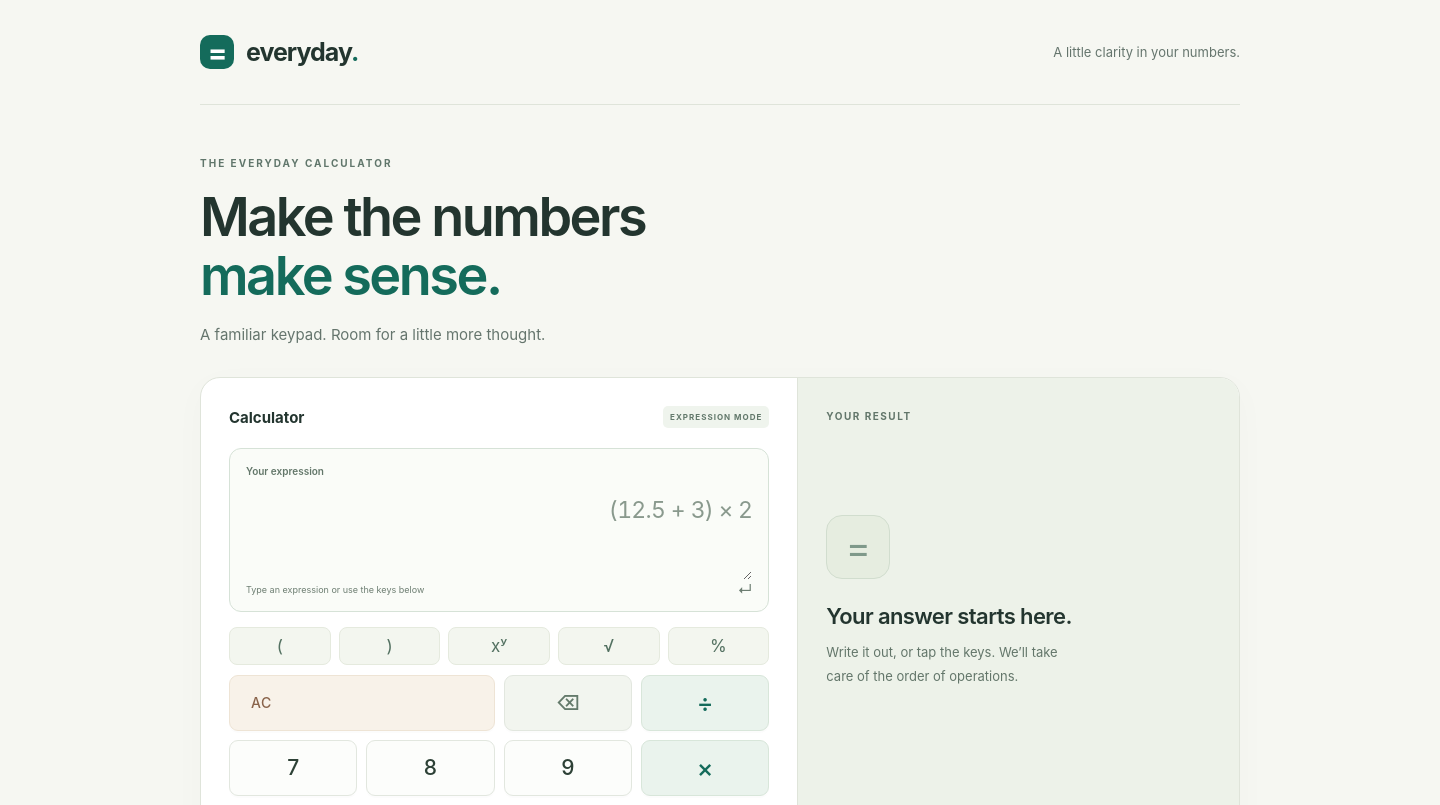
Test case: expression calculator › square root inserts parentheses with the cursor inside
The width and height of the screenshot is (1440, 805).
What coordinates should you click on to do the following:
click the button named "Square root"
I would click on:
 (609, 646)
Its box is [558, 627, 660, 665].
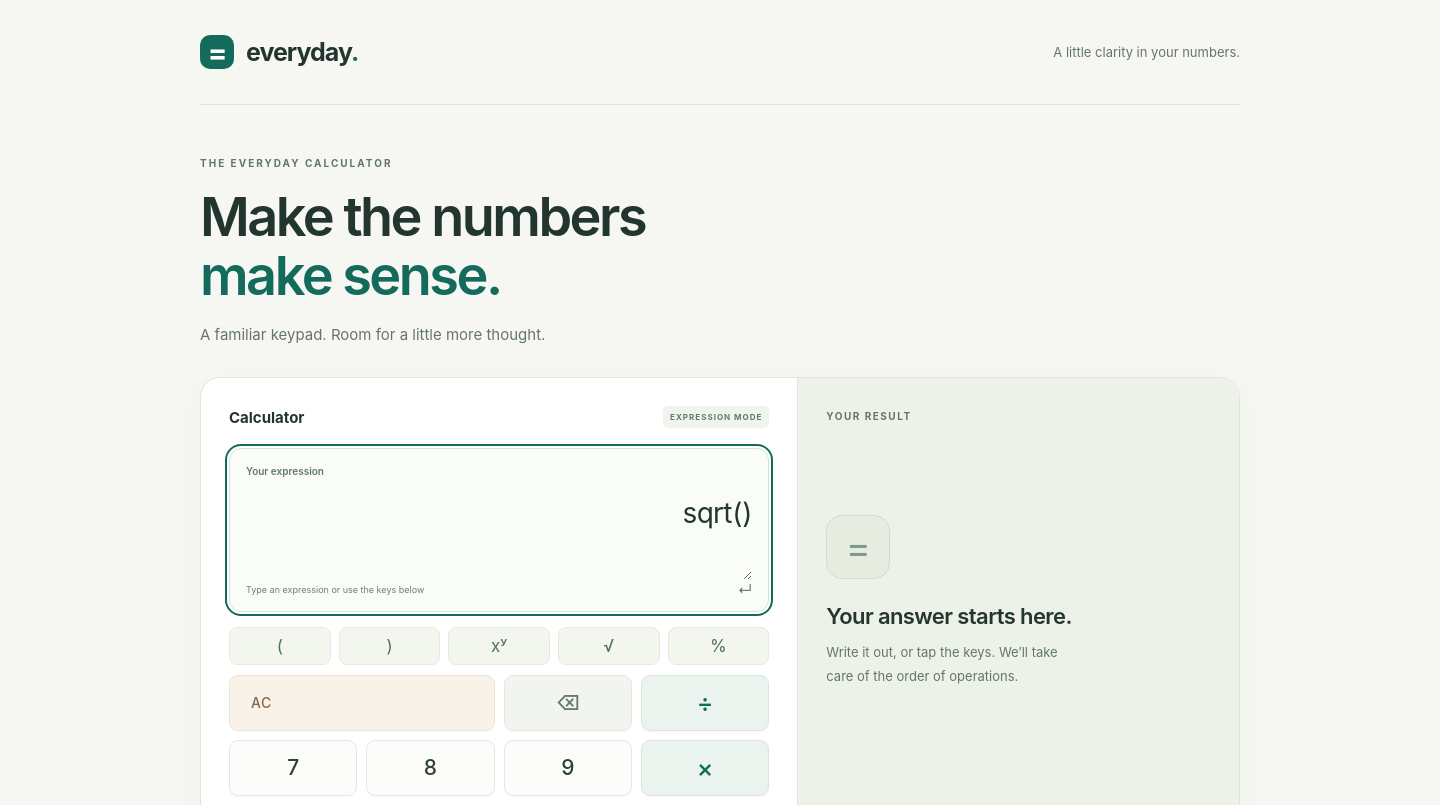
Now the text box labelled "Your expression" holds "sqrt()", box [246, 477, 752, 580]
What coordinates should you click on to do the following:
click the button "9"
I would click on:
 (568, 768)
Its box is [504, 740, 632, 796].
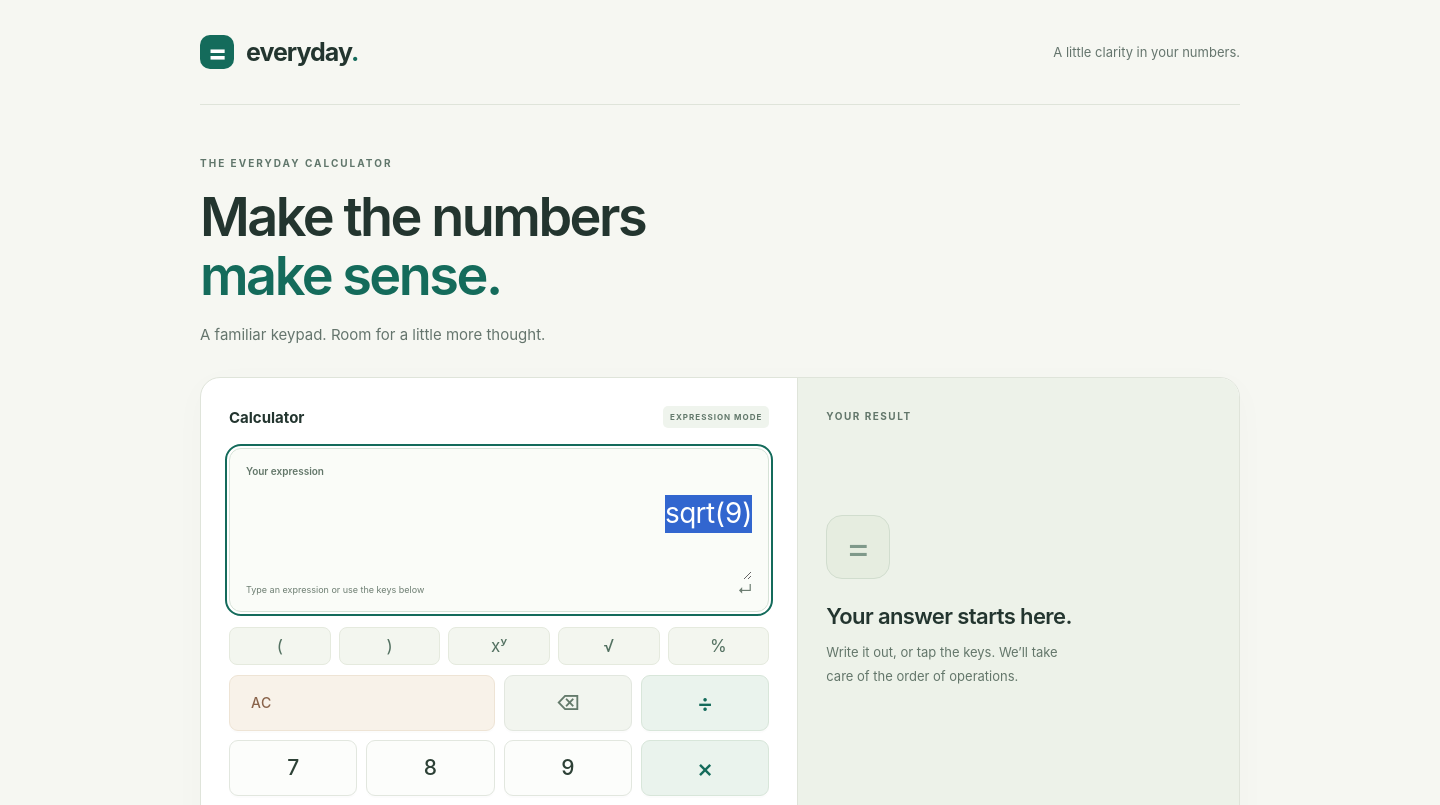
Now the text box labelled "Your expression" holds "sqrt(9)", box [246, 477, 752, 580]
What coordinates should you click on to do the following:
click the button named "Square root"
I would click on:
 (609, 646)
Its box is [558, 627, 660, 665].
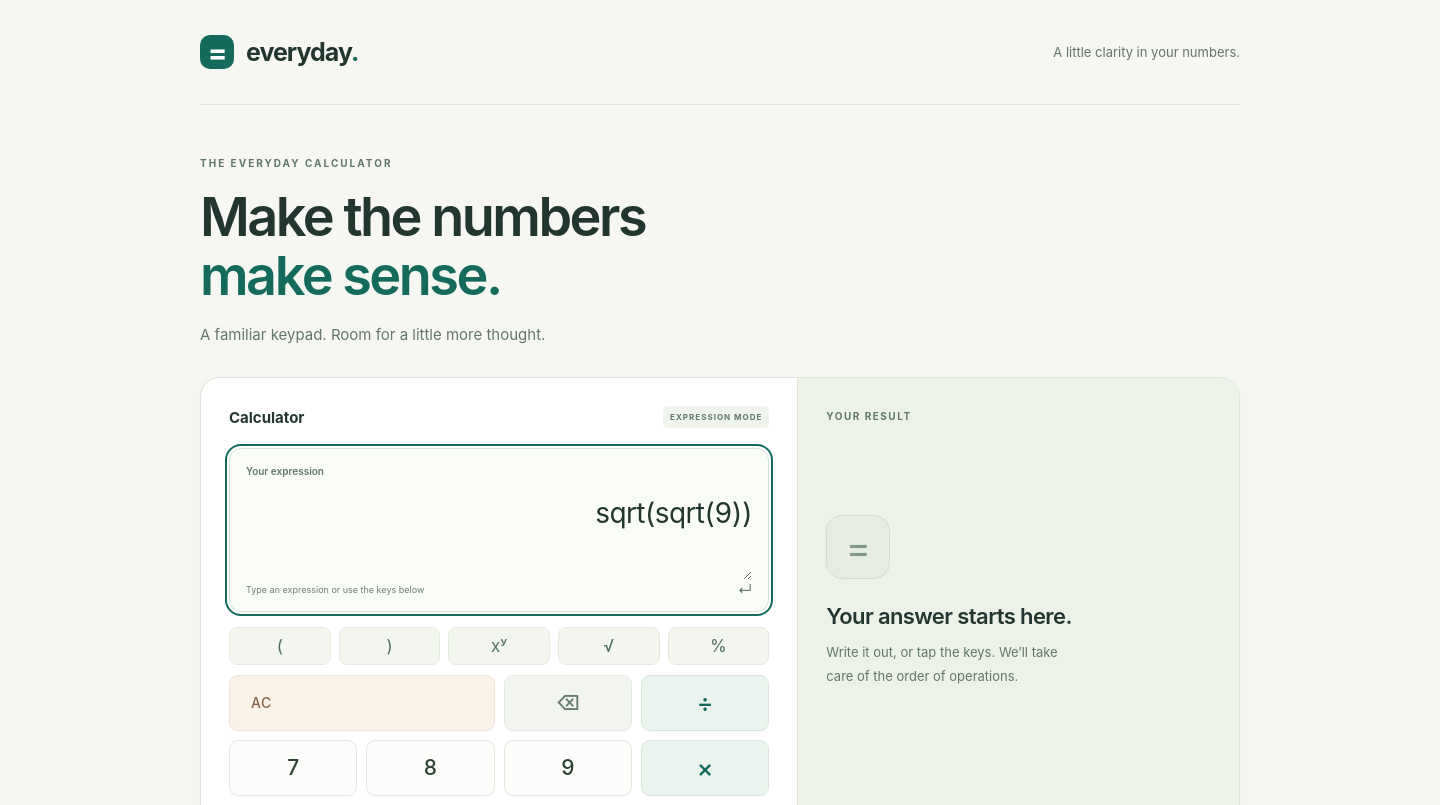
Now the text box labelled "Your expression" holds "sqrt(sqrt(9))", box [246, 477, 752, 580]
